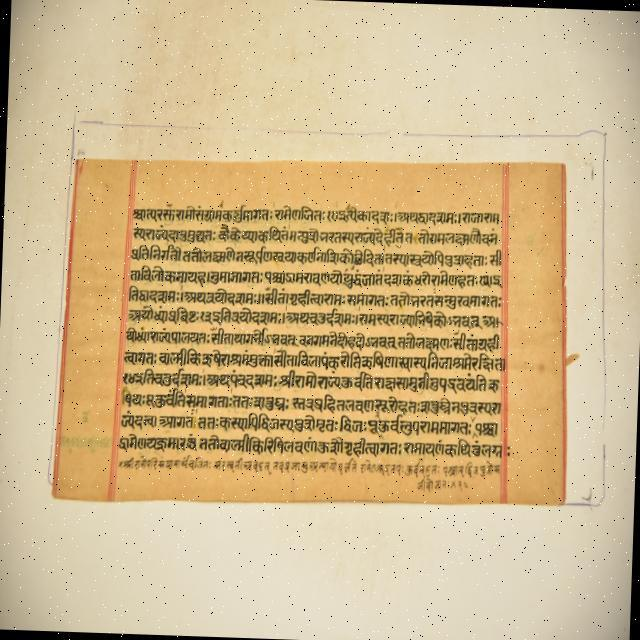text_paragraph: (48, 154, 566, 506)
